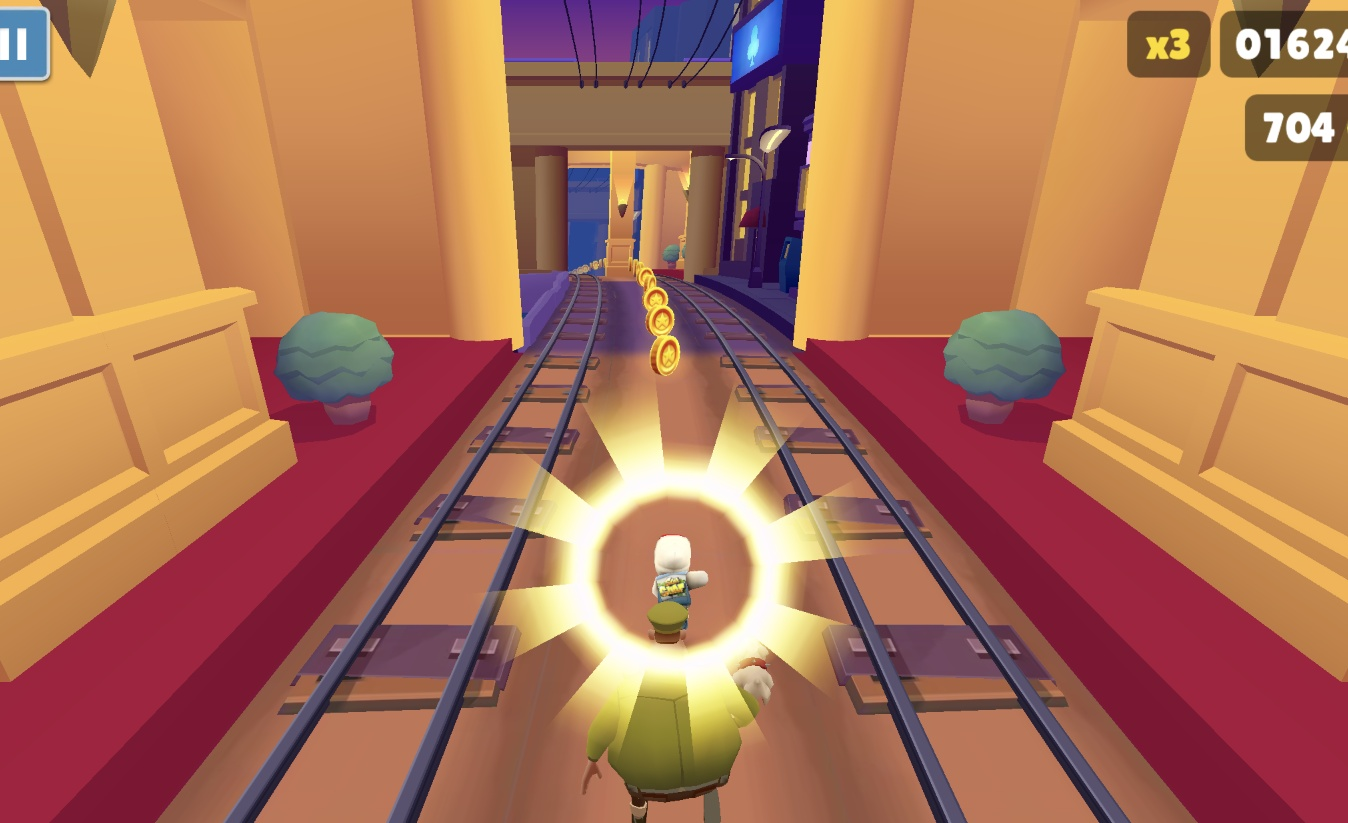pillar: (623, 60, 694, 333)
